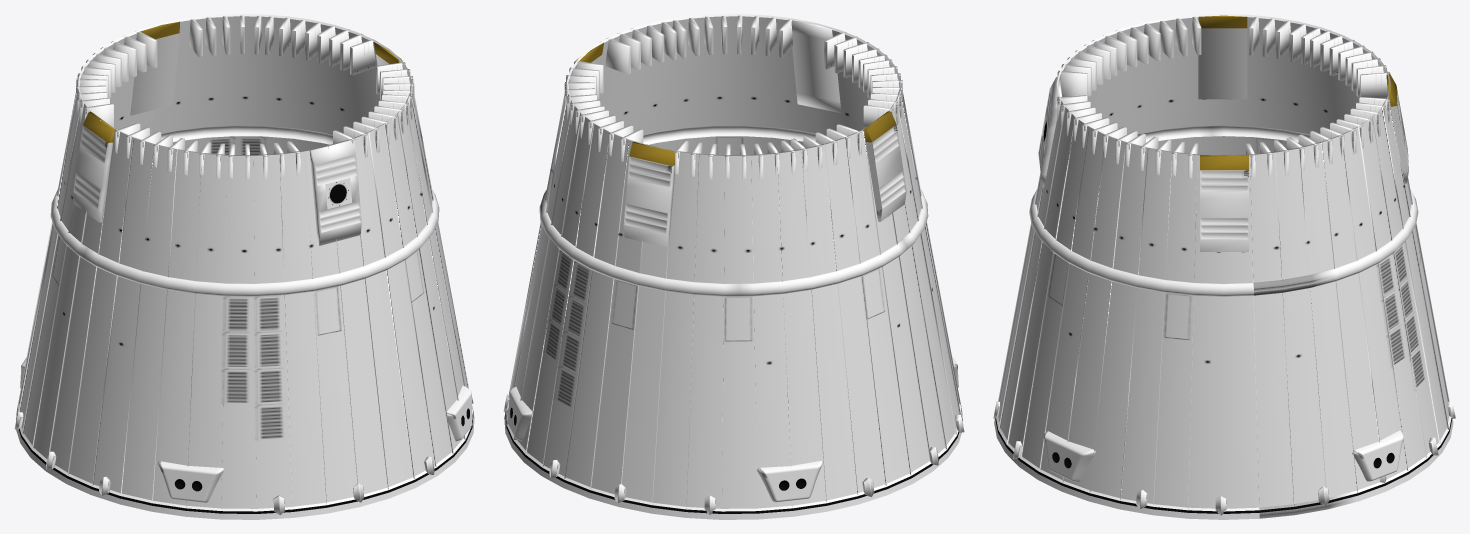
File: gemini-adapter.glb
The picture shows the model from 3 angles, left to right: view 1: azimuth 30°, elevation 25°; view 2: azimuth 150°, elevation 25°; view 3: azimuth 270°, elevation 25°; orthographic projection.
Visible parts, largest first — view 1: adapter; view 2: adapter; view 3: adapter.
Part boxes in pixels (x1,y1,x2,y2): adapter: [14, 14, 474, 519]; adapter: [503, 14, 964, 519]; adapter: [993, 14, 1455, 519].
Bounding box in the file's own units: 2.96 × 2.39 × 2.96.
Materials: 1 (1 with a texture image).
